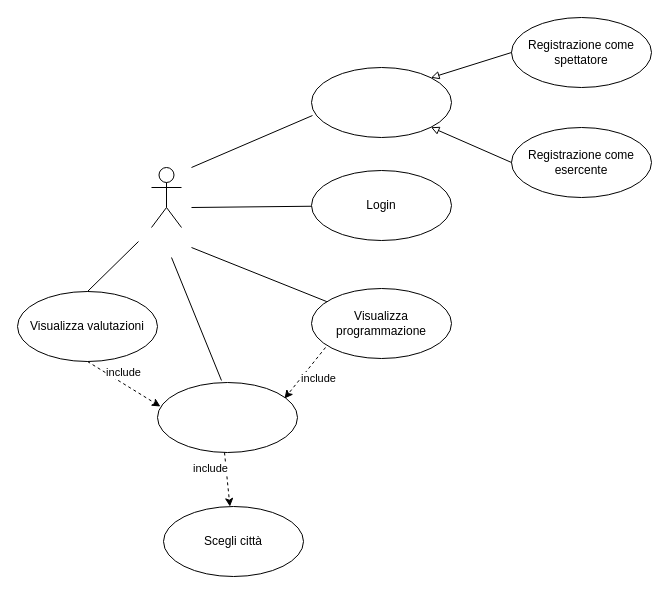
The diagram is 669 pixels wide and 594 high, and some of its shapes have lost their labels. Here are the shapes that lost their labels. From the top down, the box of each, then its label:
(310, 66, 452, 138): Registrazione
(150, 166, 182, 228): Visitatore
(156, 382, 298, 452): Visualizza multisale
